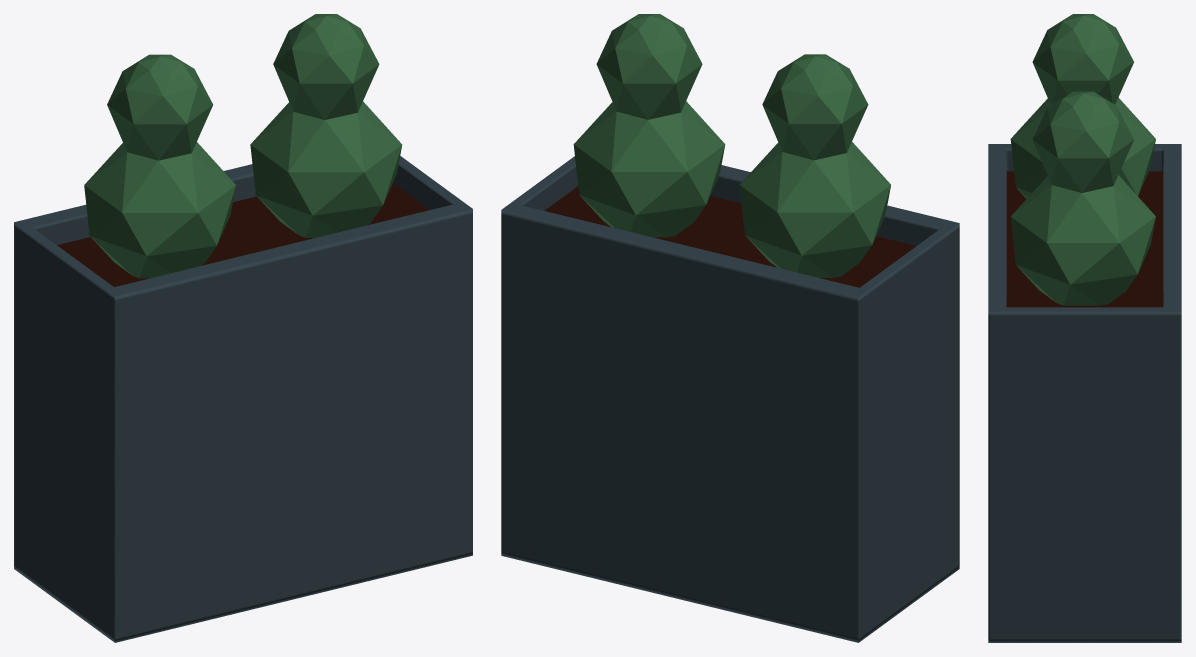
File: doniczka_duza_na_korytarz_wersja_2.fbx
3 renders of one model, left to right at view 1: azimuth 30°, elevation 25°; view 2: azimuth 150°, elevation 25°; view 3: azimuth 270°, elevation 25°, orthographic. The views are drawn at different scales.
Visible parts, largest first — view 1: doniczka duza, kaktus.001, kaktus.002, ziemia; view 2: doniczka duza, kaktus.001, kaktus.002, ziemia; view 3: doniczka duza, kaktus.002, kaktus.001, ziemia.
Part boxes in pixels (left/top/right/bottom): doniczka duza: left=14, top=156, right=472, bottom=642; kaktus.001: left=84, top=54, right=235, bottom=278; kaktus.002: left=250, top=14, right=402, bottom=237; ziemia: left=57, top=183, right=429, bottom=286; doniczka duza: left=501, top=156, right=959, bottom=642; kaktus.001: left=739, top=54, right=890, bottom=277; kaktus.002: left=573, top=14, right=725, bottom=237; ziemia: left=544, top=186, right=916, bottom=287; doniczka duza: left=988, top=144, right=1181, bottom=642; kaktus.002: left=1010, top=91, right=1155, bottom=305; kaktus.001: left=1010, top=14, right=1155, bottom=198; ziemia: left=1006, top=171, right=1163, bottom=307.
Size of the model in its own units: 261 by 369 by 128.
